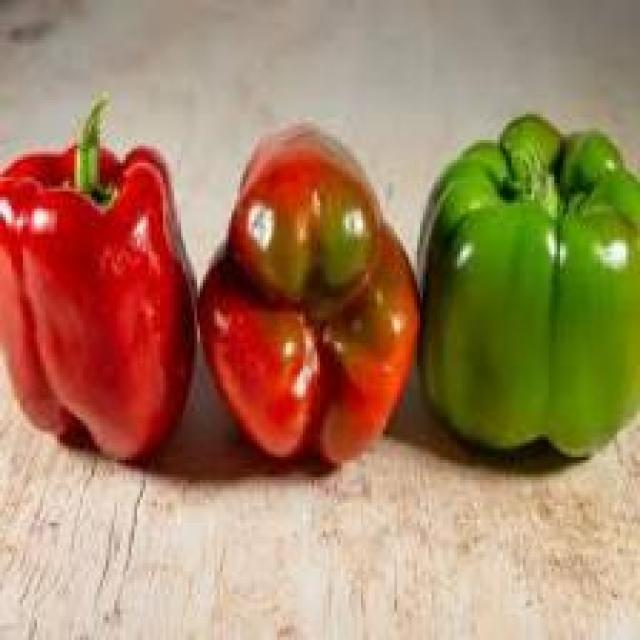Pepper: (417, 114, 640, 463), (197, 123, 420, 469), (0, 100, 194, 469)
